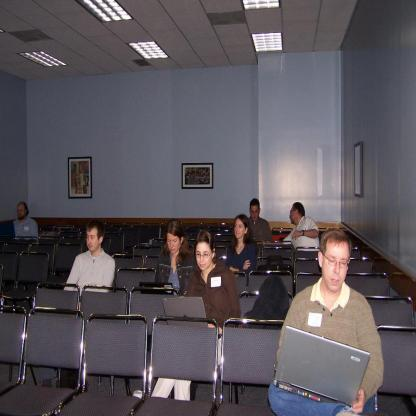board: (273, 324, 371, 408), (138, 281, 174, 294)
